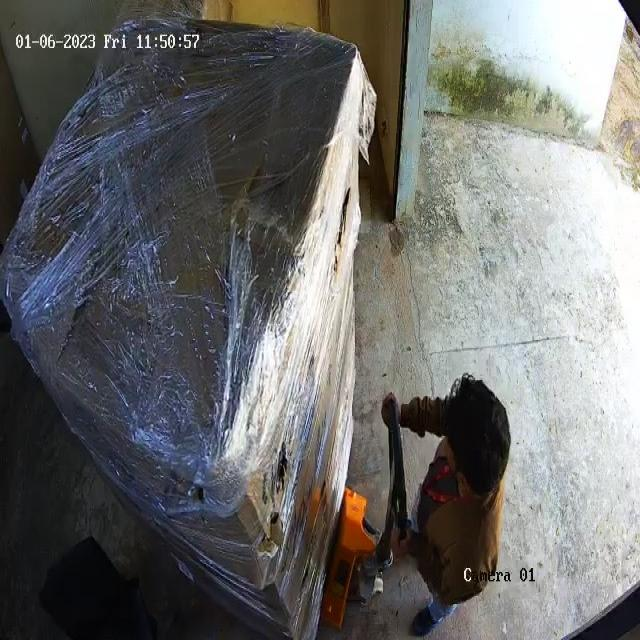leakage: (257, 447, 288, 556), (335, 185, 351, 272)
